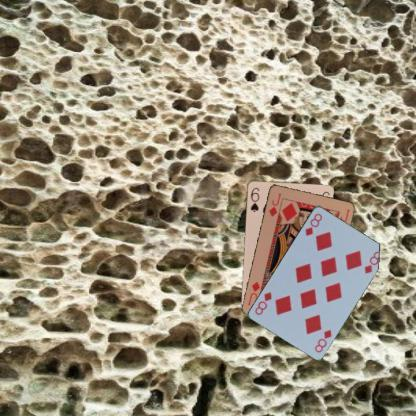6s: (248, 184, 260, 214)
8d: (312, 326, 333, 354), (302, 210, 323, 237)
Jd: (266, 190, 283, 218)
